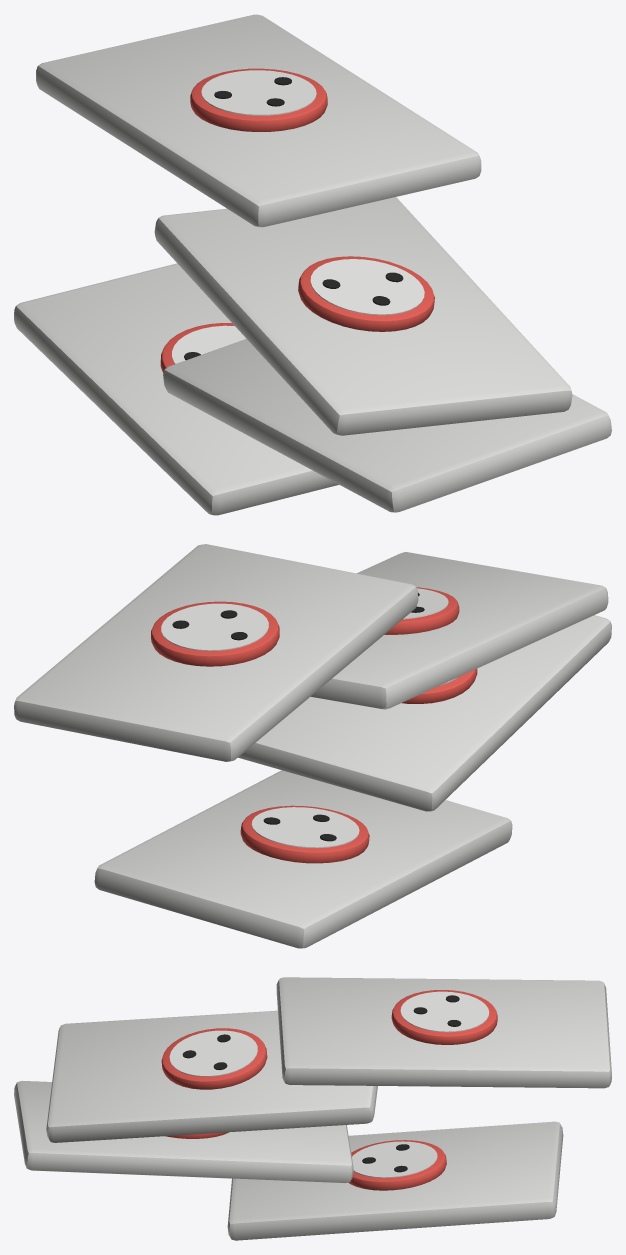
Rendered from ELE-TOM-002_anim.glb.
3 renders of one model, top to bottom at view 1: azimuth 30°, elevation 25°; view 2: azimuth 150°, elevation 25°; view 3: azimuth 270°, elevation 25°, orthographic. The views are drawn at different scales.
Visible parts, largest first — view 1: ELE-TOM-002_anim2, ELE-TOM-002_anim3, ELE-TOM-002_anim0, ELE-TOM-002_anim1; view 2: ELE-TOM-002_anim3, ELE-TOM-002_anim0, ELE-TOM-002_anim1, ELE-TOM-002_anim2; view 3: ELE-TOM-002_anim3, ELE-TOM-002_anim2, ELE-TOM-002_anim0, ELE-TOM-002_anim1.
Boxes of the visible parts, bbox=[...] form: ELE-TOM-002_anim2: bbox=[154, 197, 572, 435]; ELE-TOM-002_anim3: bbox=[36, 14, 481, 227]; ELE-TOM-002_anim0: bbox=[14, 263, 338, 515]; ELE-TOM-002_anim1: bbox=[163, 339, 611, 512]; ELE-TOM-002_anim3: bbox=[14, 544, 418, 761]; ELE-TOM-002_anim0: bbox=[94, 770, 512, 948]; ELE-TOM-002_anim1: bbox=[238, 615, 611, 811]; ELE-TOM-002_anim2: bbox=[310, 552, 608, 709]; ELE-TOM-002_anim3: bbox=[276, 977, 611, 1088]; ELE-TOM-002_anim2: bbox=[46, 1010, 377, 1142]; ELE-TOM-002_anim0: bbox=[227, 1121, 563, 1240]; ELE-TOM-002_anim1: bbox=[14, 1080, 353, 1183].
Size of the model in its own units: 0.0947 by 0.0849 by 0.2087.
